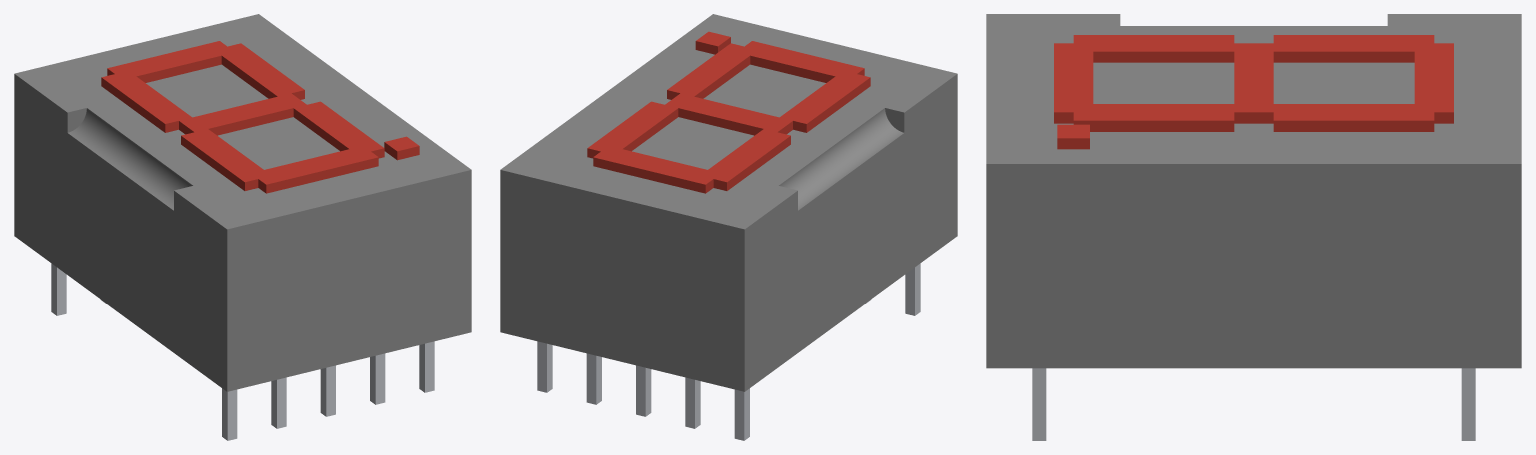
The model's file is display-7seg-ca.glb.
3 renders of one model, left to right at view 1: azimuth 30°, elevation 25°; view 2: azimuth 150°, elevation 25°; view 3: azimuth 270°, elevation 25°, orthographic. The views are drawn at different scales.
Visible parts, largest first — view 1: object 1, seg-d, seg-g, seg-a, seg-f, seg-e, seg-c, seg-b, lead-1, lead-4, lead-5, lead-3 (+3 smaller); view 2: object 1, seg-a, seg-g, seg-d, seg-e, seg-f, seg-c, seg-b, lead-10, lead-7, lead-6, lead-8 (+3 smaller); view 3: object 1, seg-b, seg-c, seg-f, seg-e, seg-g, seg-a, seg-d, lead-5, lead-6, seg-dp.
Boxes of the visible parts, <box> form: object 1: <box>14,14,471,391</box>; seg-d: <box>251,146,378,193</box>; seg-g: <box>179,93,306,135</box>; seg-a: <box>107,41,234,82</box>; seg-f: <box>101,73,191,132</box>; seg-e: <box>181,129,270,190</box>; seg-c: <box>293,101,384,158</box>; seg-b: <box>220,43,304,99</box>; lead-1: <box>222,388,237,440</box>; lead-4: <box>370,353,385,404</box>; lead-5: <box>419,341,434,392</box>; lead-3: <box>320,365,335,416</box>; object 1: <box>500,14,957,391</box>; seg-a: <box>593,146,720,193</box>; seg-g: <box>665,93,792,135</box>; seg-d: <box>738,41,864,82</box>; seg-e: <box>780,74,870,132</box>; seg-f: <box>701,129,790,190</box>; seg-c: <box>667,43,757,99</box>; seg-b: <box>587,101,678,158</box>; lead-10: <box>734,388,749,440</box>; lead-7: <box>586,353,601,404</box>; lead-6: <box>537,341,552,392</box>; lead-8: <box>636,365,651,416</box>; object 1: <box>986,14,1521,368</box>; seg-b: <box>1273,104,1434,131</box>; seg-c: <box>1073,104,1234,131</box>; seg-f: <box>1273,35,1434,62</box>; seg-e: <box>1073,35,1234,62</box>; seg-g: <box>1234,43,1273,123</box>; seg-a: <box>1414,43,1453,123</box>; seg-d: <box>1054,43,1093,123</box>; lead-5: <box>1032,368,1046,440</box>; lead-6: <box>1461,368,1475,440</box>; seg-dp: <box>1057,124,1089,149</box>.
Bounding box in the file's own units: 0.0126 × 0.0117 × 0.019.
